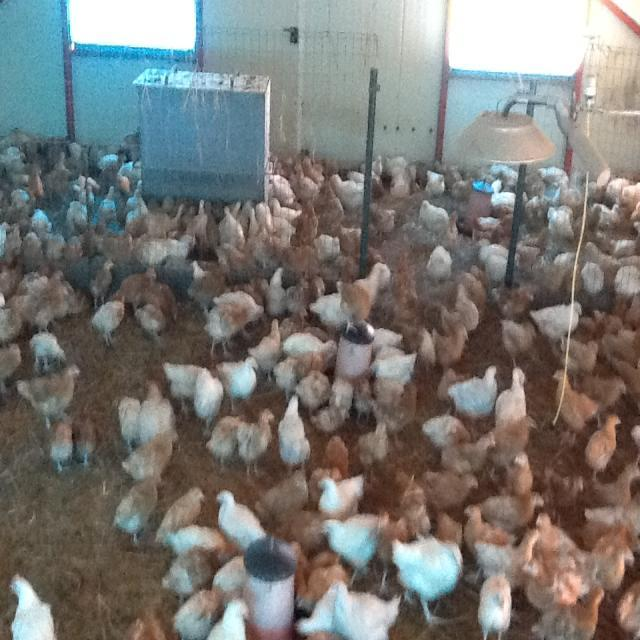poussin: (391, 540, 458, 623), (518, 586, 610, 640), (122, 422, 188, 490), (479, 524, 546, 588), (512, 548, 590, 600), (20, 359, 80, 426), (332, 583, 400, 640), (448, 415, 536, 459), (4, 571, 59, 640), (324, 512, 380, 575), (557, 364, 596, 452), (226, 397, 272, 470), (576, 404, 622, 477), (590, 494, 640, 561), (434, 427, 497, 479), (115, 468, 161, 538), (254, 466, 307, 526), (278, 386, 316, 466), (393, 465, 434, 539), (490, 478, 546, 532), (208, 288, 258, 348), (449, 362, 502, 418), (216, 486, 266, 544), (175, 583, 225, 640), (296, 582, 352, 632), (589, 539, 633, 602), (376, 378, 419, 442), (159, 481, 206, 538), (428, 469, 484, 516), (19, 274, 66, 330), (159, 520, 226, 558), (304, 443, 350, 498), (462, 501, 514, 549), (156, 554, 222, 590), (496, 313, 540, 367), (65, 412, 106, 469), (288, 319, 343, 361), (116, 387, 153, 448), (497, 366, 530, 434), (190, 359, 223, 426), (480, 570, 512, 639), (445, 278, 487, 330), (305, 386, 348, 436), (292, 542, 343, 584), (145, 226, 198, 266), (139, 374, 170, 441), (115, 260, 161, 305), (28, 329, 68, 380), (221, 352, 257, 408), (535, 288, 570, 344), (418, 192, 462, 236), (533, 510, 581, 550), (288, 271, 322, 326), (130, 299, 172, 343), (317, 473, 364, 512), (341, 276, 371, 336), (277, 518, 327, 554), (164, 353, 198, 405), (212, 600, 256, 640), (37, 422, 77, 466), (600, 460, 640, 504), (330, 168, 368, 214), (378, 506, 402, 578), (374, 343, 418, 382), (606, 345, 640, 395), (587, 372, 632, 409), (246, 200, 274, 258), (94, 296, 124, 350), (88, 256, 120, 306), (268, 198, 298, 250), (214, 202, 245, 252), (122, 607, 168, 640), (264, 268, 292, 322), (0, 340, 26, 398), (294, 156, 323, 208), (147, 198, 191, 232), (396, 253, 418, 321), (420, 238, 452, 284), (258, 320, 284, 376), (54, 280, 92, 318), (478, 242, 510, 287), (312, 219, 346, 261), (501, 451, 538, 489), (209, 410, 233, 468), (310, 285, 340, 328), (617, 176, 640, 232), (436, 504, 465, 548), (362, 419, 386, 472), (429, 326, 466, 360), (614, 590, 640, 638), (270, 164, 296, 212), (592, 200, 626, 236), (591, 313, 638, 339), (336, 220, 364, 262), (363, 319, 403, 348), (96, 184, 120, 231), (1, 262, 34, 296), (366, 206, 399, 239), (276, 352, 301, 395), (566, 333, 599, 365), (616, 261, 640, 304), (368, 257, 388, 308), (190, 200, 208, 256), (25, 221, 47, 266), (298, 371, 326, 406), (92, 148, 128, 175), (606, 228, 640, 256), (441, 207, 464, 248), (124, 200, 150, 236), (58, 197, 90, 226), (414, 321, 439, 358), (425, 164, 452, 198), (477, 212, 504, 246), (546, 204, 576, 234), (522, 186, 544, 226), (540, 162, 572, 187), (580, 235, 614, 258), (394, 156, 411, 200), (207, 200, 220, 254), (10, 180, 28, 219), (497, 180, 515, 217), (68, 232, 88, 264), (8, 220, 24, 259), (54, 150, 68, 194), (372, 154, 389, 190), (0, 212, 16, 250), (583, 262, 602, 294), (28, 166, 45, 200), (44, 235, 68, 259), (128, 176, 152, 200), (68, 138, 80, 178), (192, 258, 206, 286), (112, 172, 131, 192), (85, 171, 99, 192)
